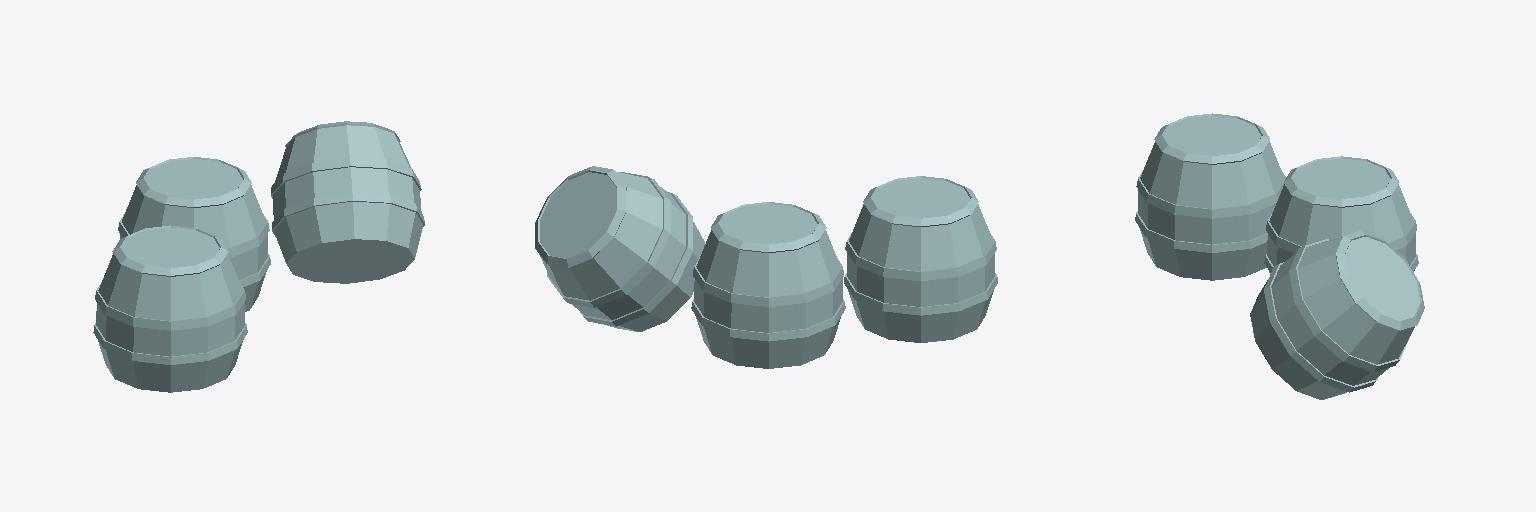
File: Barrel.obj
3 renders of one model, left to right at view 1: azimuth 30°, elevation 25°; view 2: azimuth 150°, elevation 25°; view 3: azimuth 270°, elevation 25°, orthographic.
Parts seen in each view (by area): view 1: Barrel; view 2: Barrel; view 3: Barrel.
Part boxes in pixels (x1,y1,x2,y2): Barrel: (93,121,424,392); Barrel: (535,166,997,368); Barrel: (1135,113,1424,399).
Bounding box in the file's own units: 6.65 × 2.72 × 4.48.